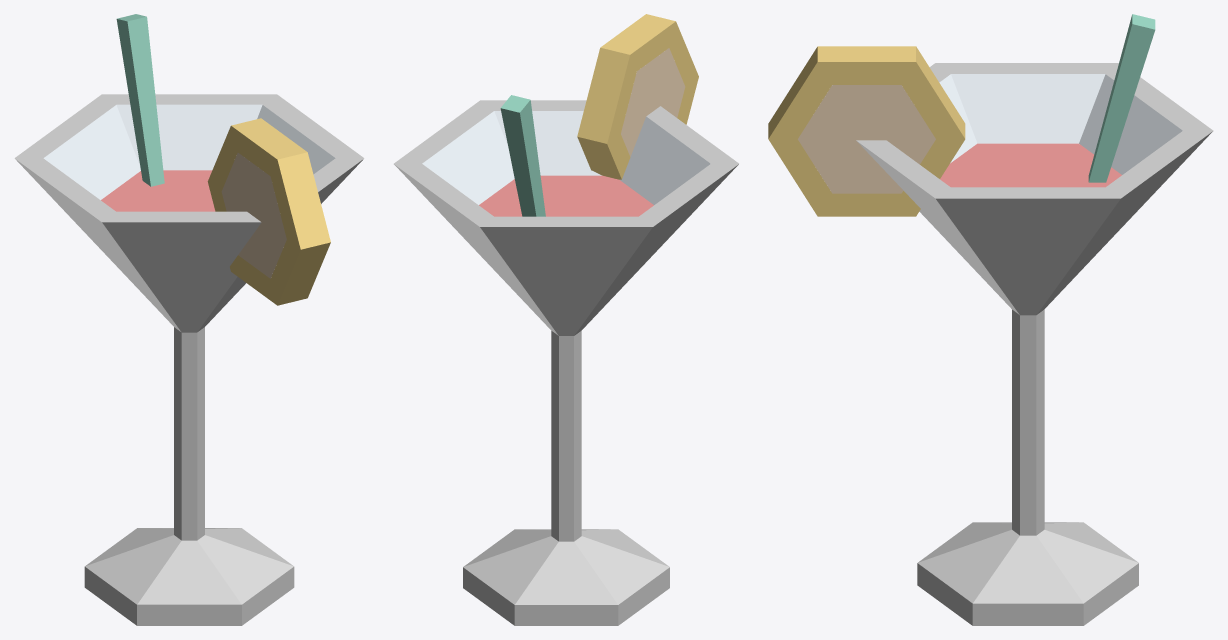
The model's file is cocktail.gltf.
3 views of the same model, side by side, from view 1: azimuth 30°, elevation 25°; view 2: azimuth 150°, elevation 25°; view 3: azimuth 270°, elevation 25° (orthographic). The views are drawn at different scales.
Parts seen in each view (by area): view 1: cocktail, lemon, straw; view 2: cocktail, lemon, straw; view 3: cocktail, lemon, straw.
Part boxes in pixels (bbox=[...]): cocktail: bbox=[14, 94, 364, 625]; lemon: bbox=[207, 118, 330, 305]; straw: bbox=[116, 14, 164, 186]; cocktail: bbox=[394, 100, 738, 625]; lemon: bbox=[577, 14, 698, 179]; straw: bbox=[500, 95, 545, 216]; cocktail: bbox=[856, 63, 1213, 625]; lemon: bbox=[768, 46, 965, 216]; straw: bbox=[1088, 14, 1155, 182].
Bounding box in the file's own units: 0.2606 × 0.5059 × 0.3615.
